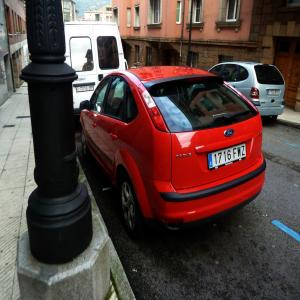Vehicle-registration-plate: (208, 142, 248, 172), (76, 85, 95, 93), (269, 91, 279, 95)
